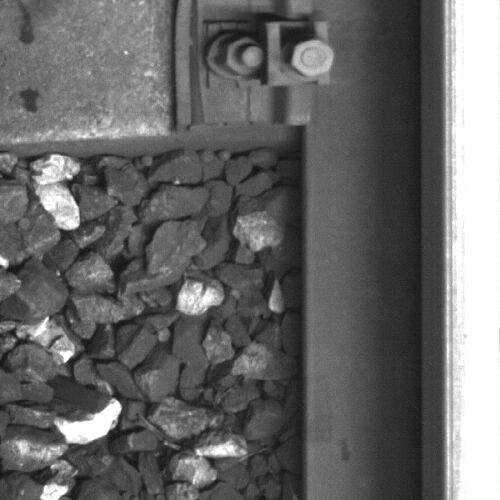kb: (197, 1, 335, 126)
nut: (283, 30, 339, 85), (221, 36, 265, 77)
rail: (446, 1, 500, 500)
tie_concr: (1, 1, 301, 140)
